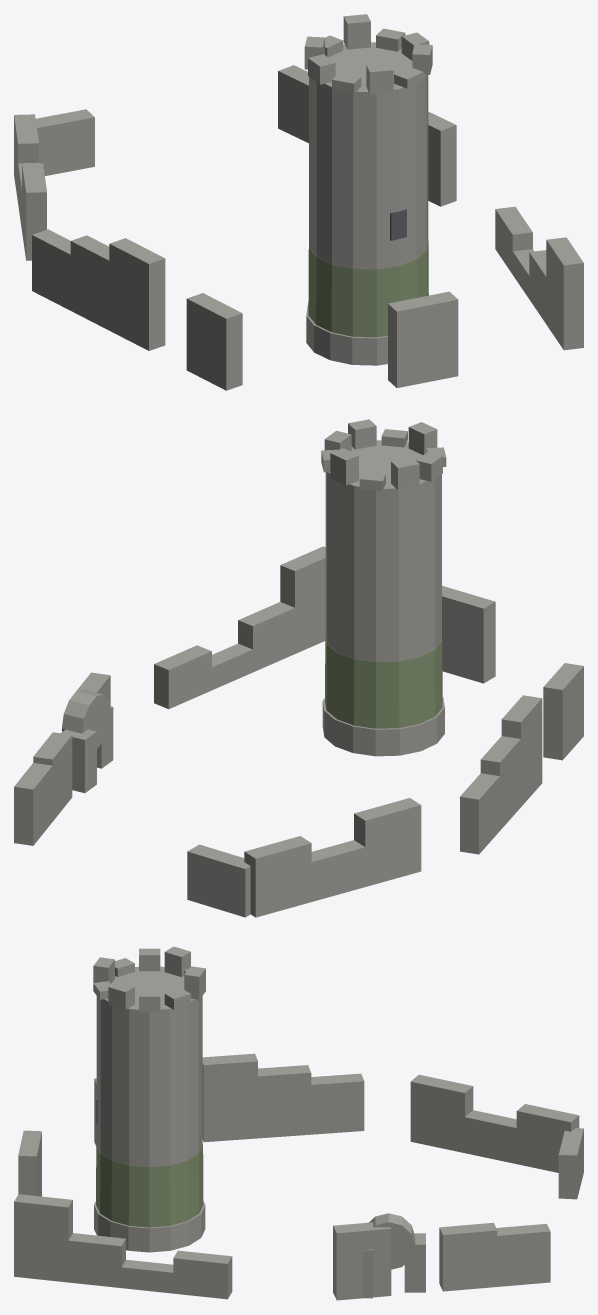
Rendered from landmark-sausenburg.glb.
3 renders of one model, top to bottom at view 1: azimuth 30°, elevation 25°; view 2: azimuth 150°, elevation 25°; view 3: azimuth 270°, elevation 25°, orthographic. The views are drawn at different scales.
Visible parts, largest first — view 1: building; view 2: building; view 3: building.
Boxes of the visible parts, x1,y1,x2,y2 form: building: (14,14,583,390); building: (14,419,583,917); building: (14,946,583,1300).
Bounding box in the file's own units: 31.6 × 21.9 × 42.92.
